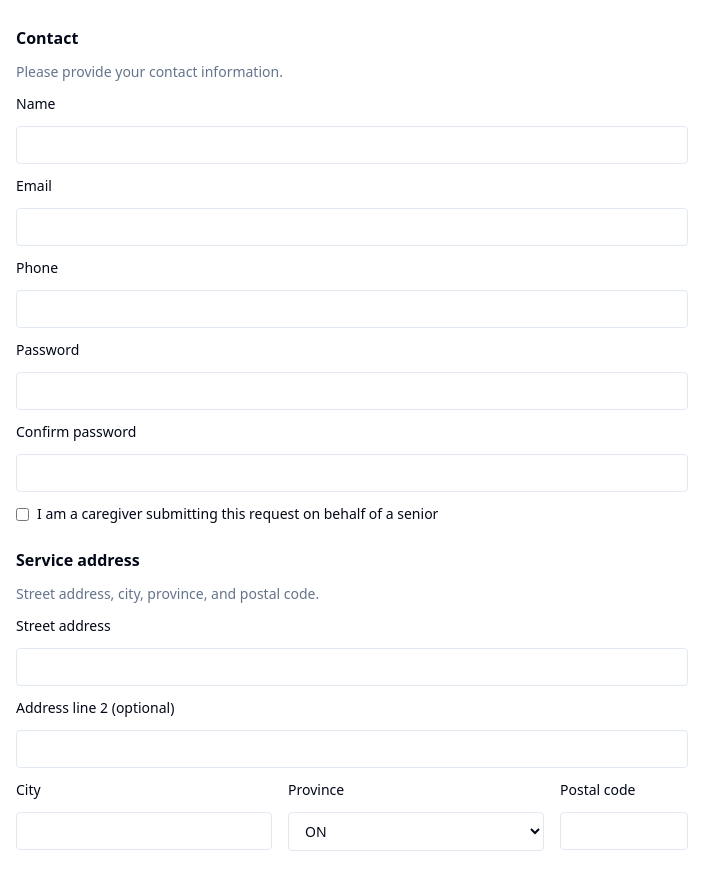
Test: IntakeForm › asks about the senior's ownership instead of the user's when submitting as a caregiver
Click the checkbox labelled "I am a caregiver": x=22, y=514 [16,508,29,520]
(page scrolled)
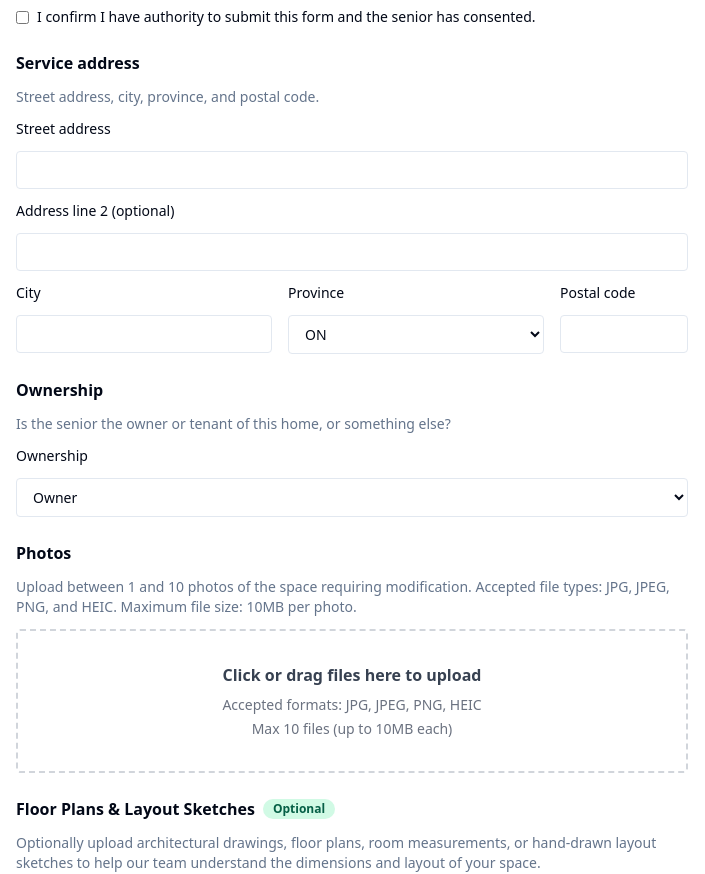
Result: the text "Is the senior the owner or tenant of this home, or something else?" is shown at [16,414,451,433]
